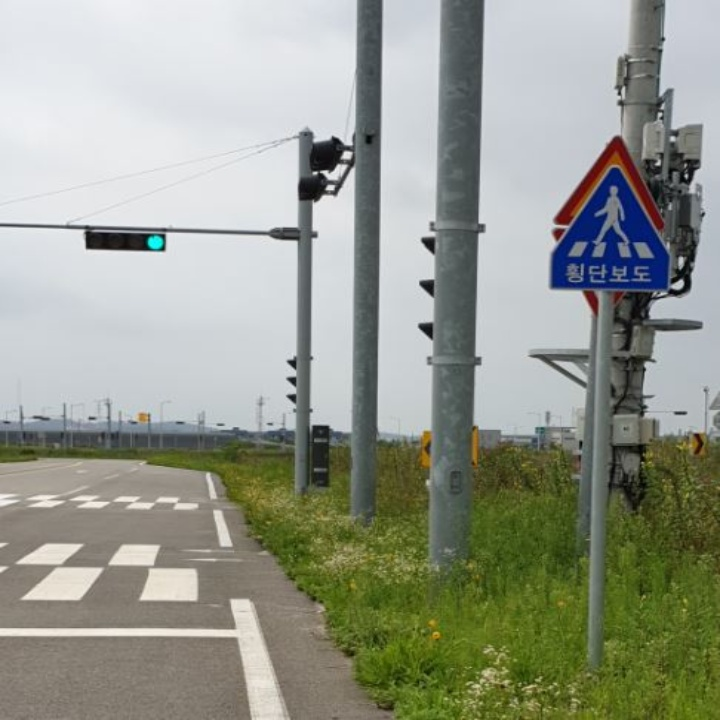cross: (586, 175, 642, 256)
